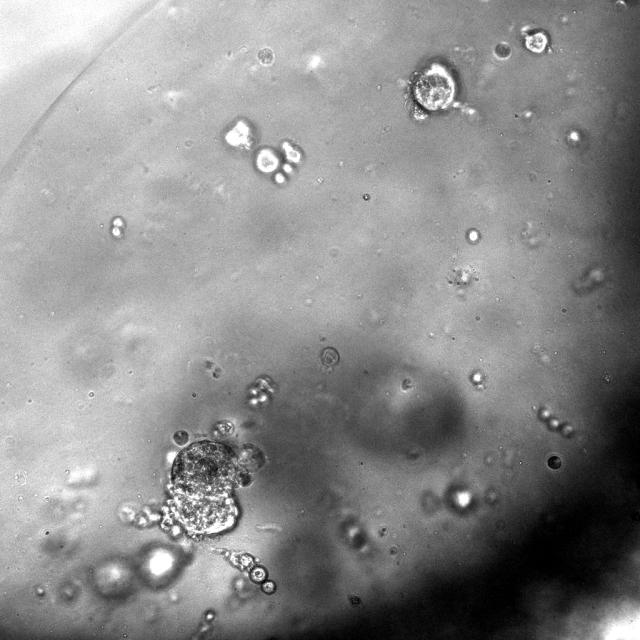organoid: (127, 439, 264, 540), (406, 58, 461, 120), (218, 549, 276, 594), (252, 139, 304, 184), (223, 116, 257, 150), (538, 406, 572, 436), (246, 376, 274, 408), (521, 27, 550, 54), (211, 420, 234, 438), (111, 216, 126, 239), (321, 347, 339, 366), (257, 47, 274, 66), (493, 42, 511, 59), (547, 453, 563, 471), (172, 430, 189, 446), (348, 594, 362, 608), (402, 378, 412, 391)
